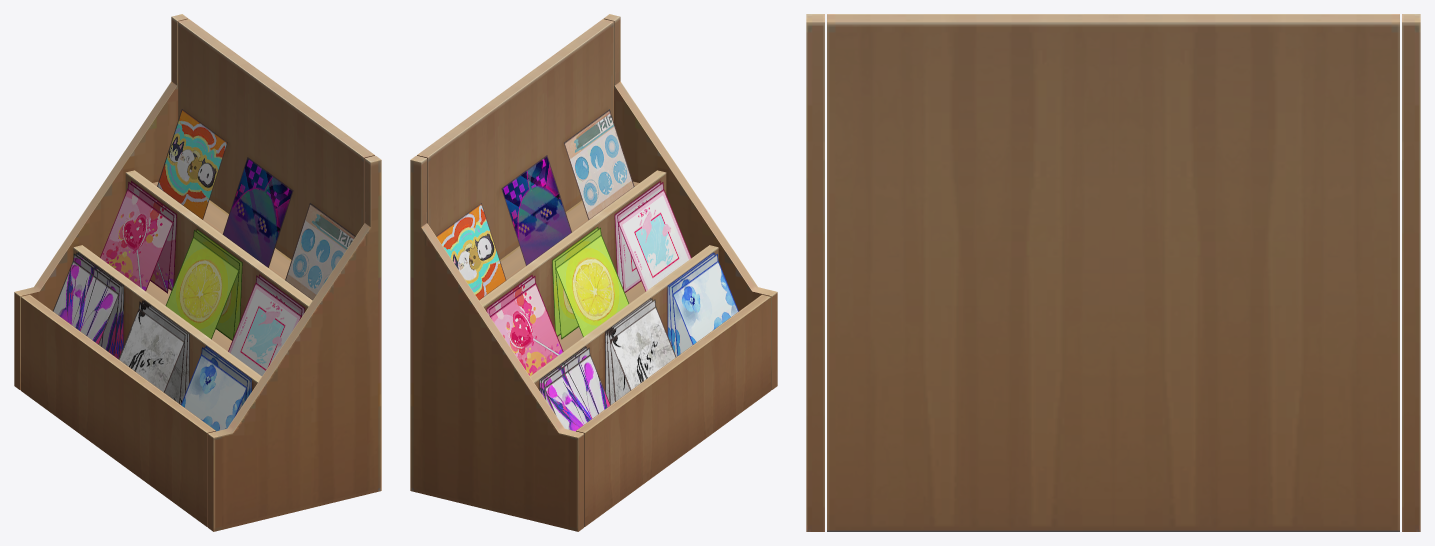
The model's file is my_shoppingmall_01_bookstand_01.glb.
The picture shows the model from 3 angles, left to right: view 1: azimuth 30°, elevation 25°; view 2: azimuth 150°, elevation 25°; view 3: azimuth 270°, elevation 25°; orthographic projection. The views are drawn at different scales.
Parts seen in each view (by area): view 1: my_shoppingmall_01_bookstand_01; view 2: my_shoppingmall_01_bookstand_01; view 3: my_shoppingmall_01_bookstand_01.
Boxes of the visible parts, left/top/right/bottom form: my_shoppingmall_01_bookstand_01: left=14, top=14, right=381, bottom=531; my_shoppingmall_01_bookstand_01: left=410, top=14, right=777, bottom=531; my_shoppingmall_01_bookstand_01: left=806, top=14, right=1420, bottom=531.
Size of the model in its own units: 0.00521 by 0.0098 by 0.0107.
1 material, 1 textured.
